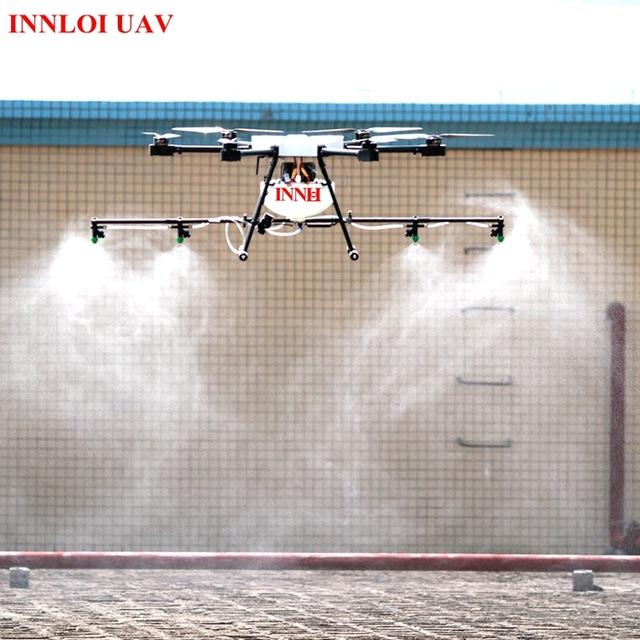drone: (107, 111, 496, 191)
